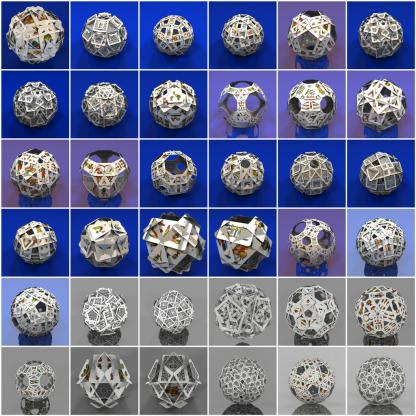Ball: (6, 5, 404, 406), (75, 145, 135, 203)
